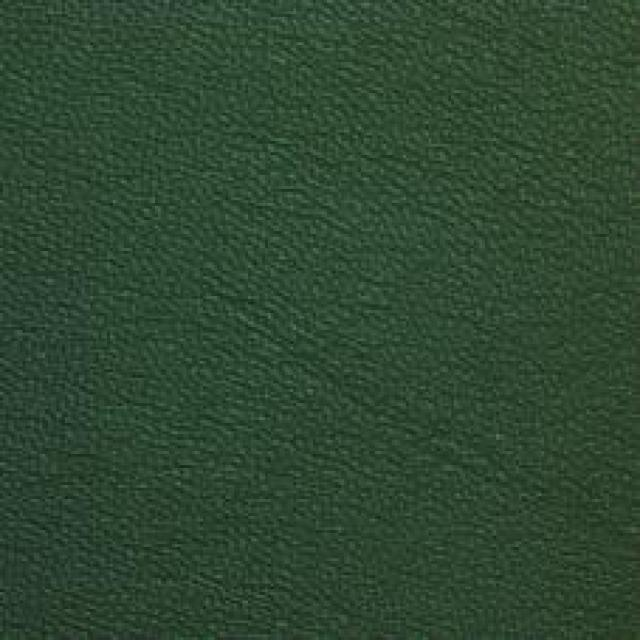Growth Marks: (205, 286, 481, 470)
